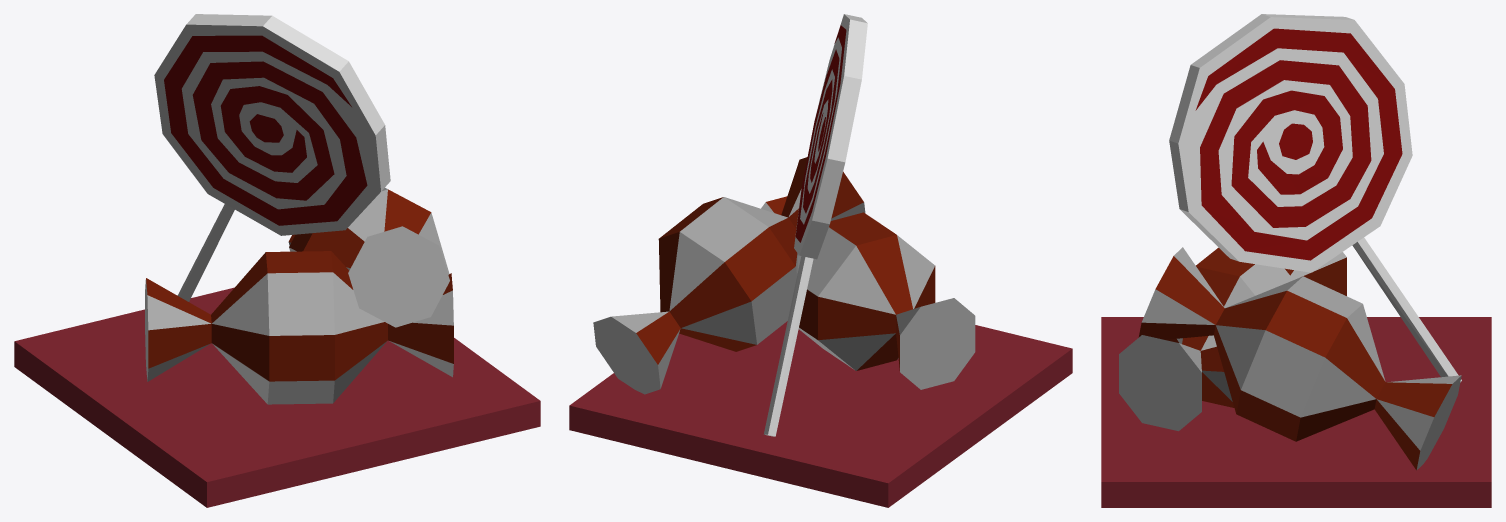
File: W_O_Playground_CandySymbolic_001_L3.fbx
3 views of the same model, side by side, from view 1: azimuth 30°, elevation 25°; view 2: azimuth 150°, elevation 25°; view 3: azimuth 270°, elevation 25° (orthographic). The views are drawn at different scales.
Parts seen in each view (by area): view 1: W_O_Playground_CandySymbolic_001_L3; view 2: W_O_Playground_CandySymbolic_001_L3; view 3: W_O_Playground_CandySymbolic_001_L3.
Part boxes in pixels (box(x1,y1,x2,y2)): W_O_Playground_CandySymbolic_001_L3: box(14, 14, 540, 507); W_O_Playground_CandySymbolic_001_L3: box(569, 14, 1072, 507); W_O_Playground_CandySymbolic_001_L3: box(1101, 14, 1491, 507).
Bounding box in the file's own units: 2.04 × 2.26 × 2.
